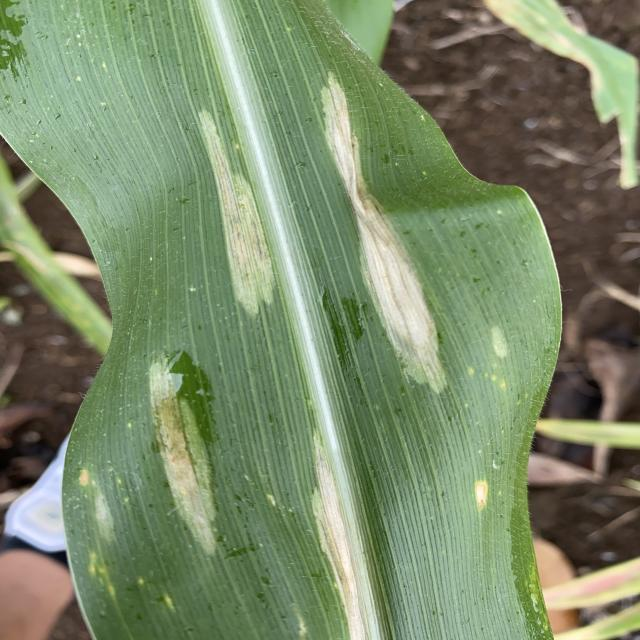Corn_Leaf_Blight: (67, 0, 559, 640)
